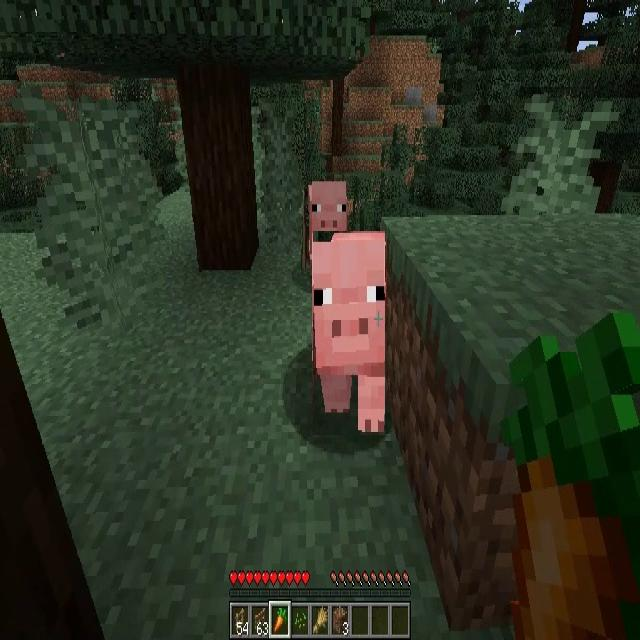pig: (313, 231, 385, 435), (308, 183, 348, 268)
